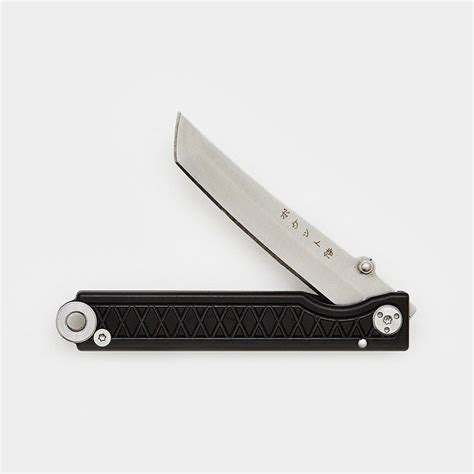knife: (54, 103, 420, 352)
